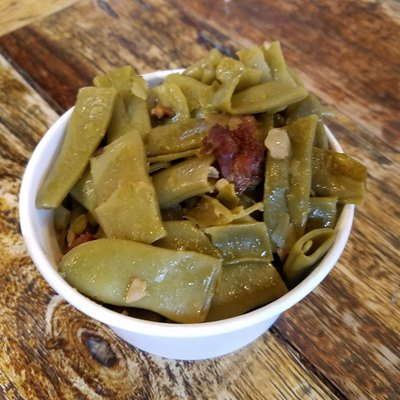sushi: (16, 15, 383, 368)
